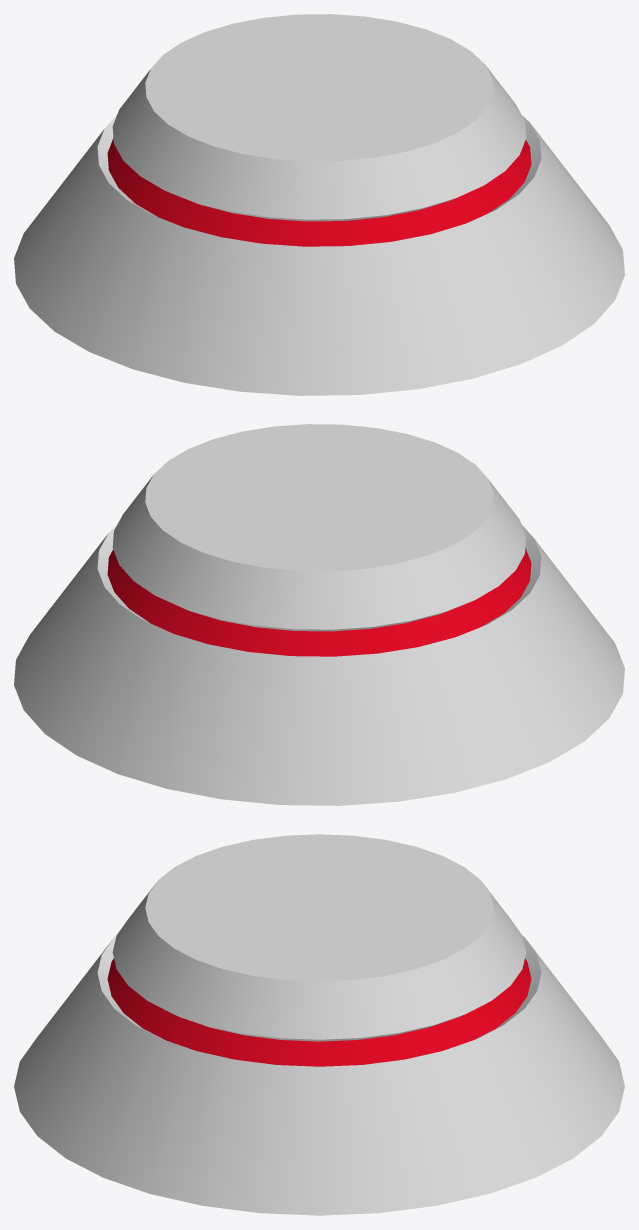
Rendered from levitation_globe.glb.
The picture shows the model from 3 angles, top to bottom: view 1: azimuth 30°, elevation 25°; view 2: azimuth 150°, elevation 25°; view 3: azimuth 270°, elevation 25°; orthographic projection.
Parts seen in each view (by area): view 1: lg; view 2: lg; view 3: lg.
Part boxes in pixels (<box>): lg: <box>14,14,624,395</box>; lg: <box>14,424,624,805</box>; lg: <box>14,834,624,1215</box>.
Bounding box in the file's own units: 3.51 × 1.13 × 3.51.
